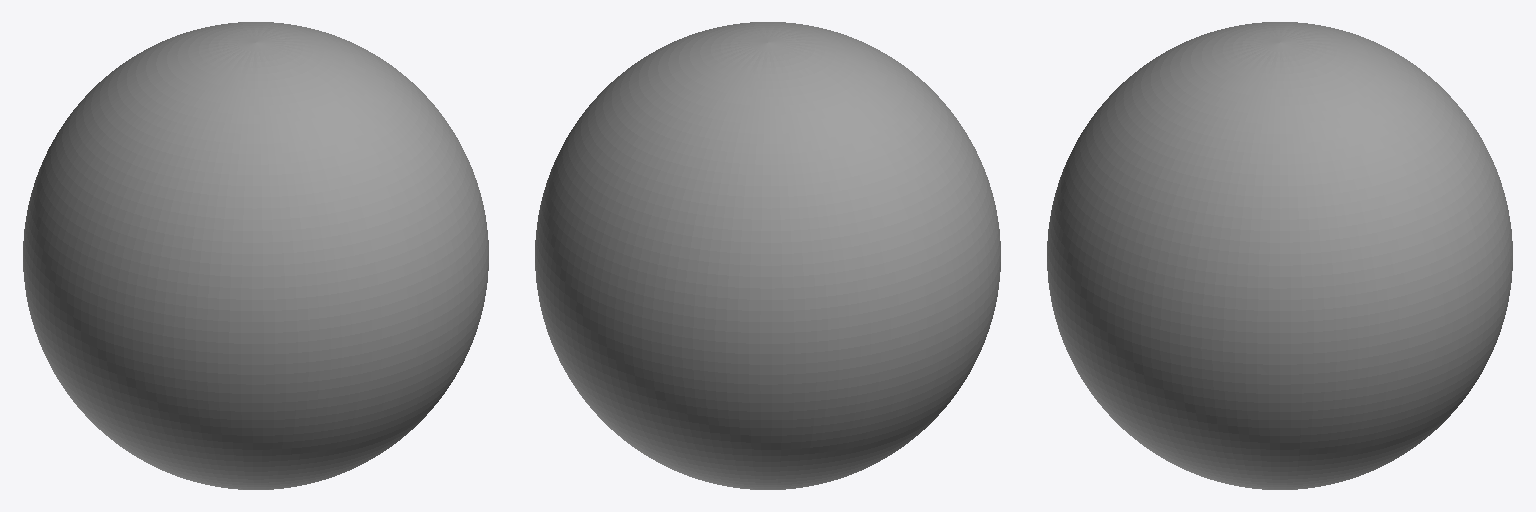
Rendered from mars.obj.
3 views of the same model, side by side, from view 1: azimuth 30°, elevation 25°; view 2: azimuth 150°, elevation 25°; view 3: azimuth 270°, elevation 25° (orthographic).
Visible parts, largest first — view 1: Sphere; view 2: Sphere; view 3: Sphere.
Boxes of the visible parts, <box> form: Sphere: <box>23,22,488,489</box>; Sphere: <box>535,22,1000,489</box>; Sphere: <box>1047,22,1512,489</box>.
Size of the model in its own units: 1.98 by 2 by 1.98.